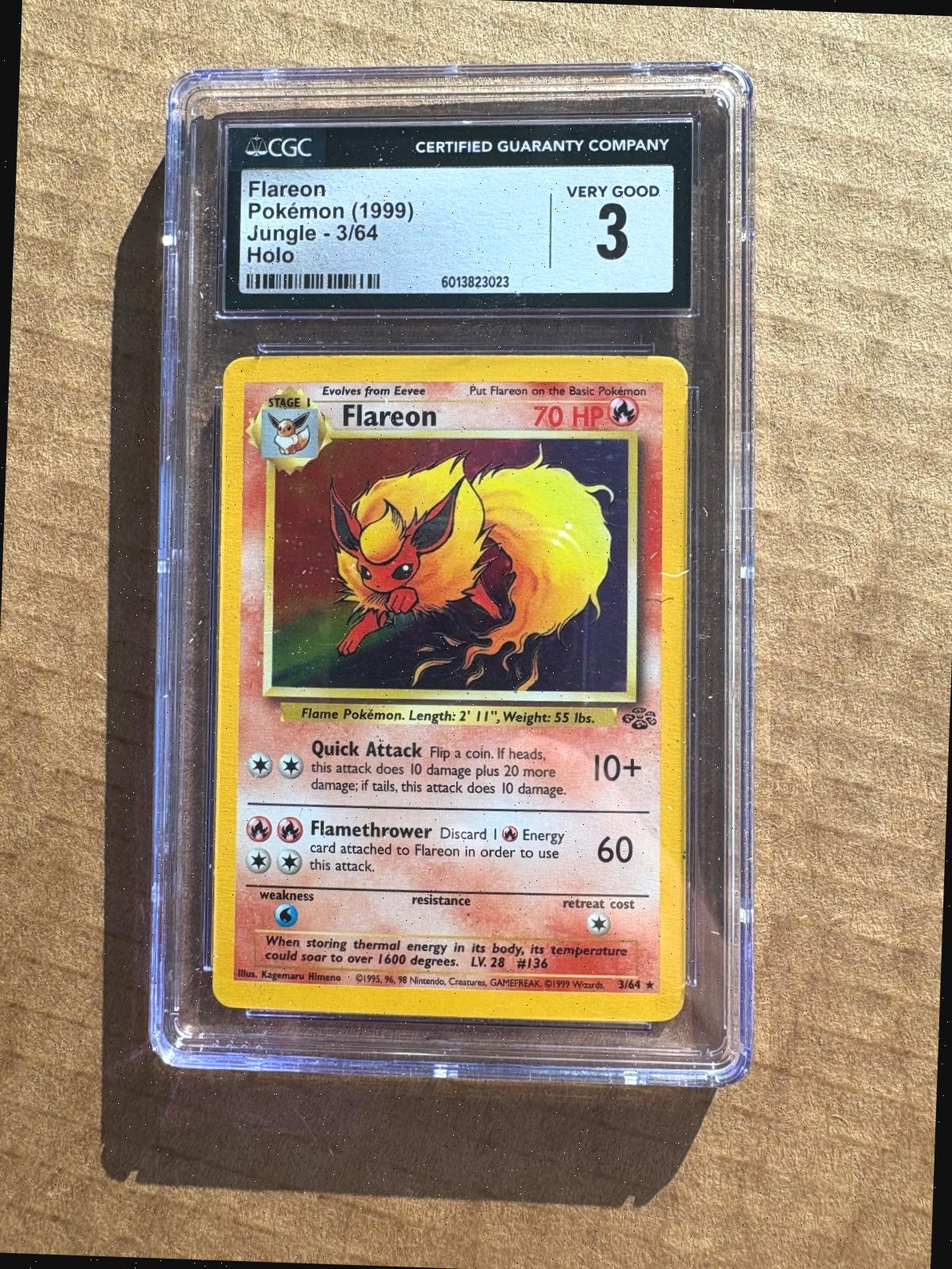card-2UtV: (211, 355, 689, 1022)
